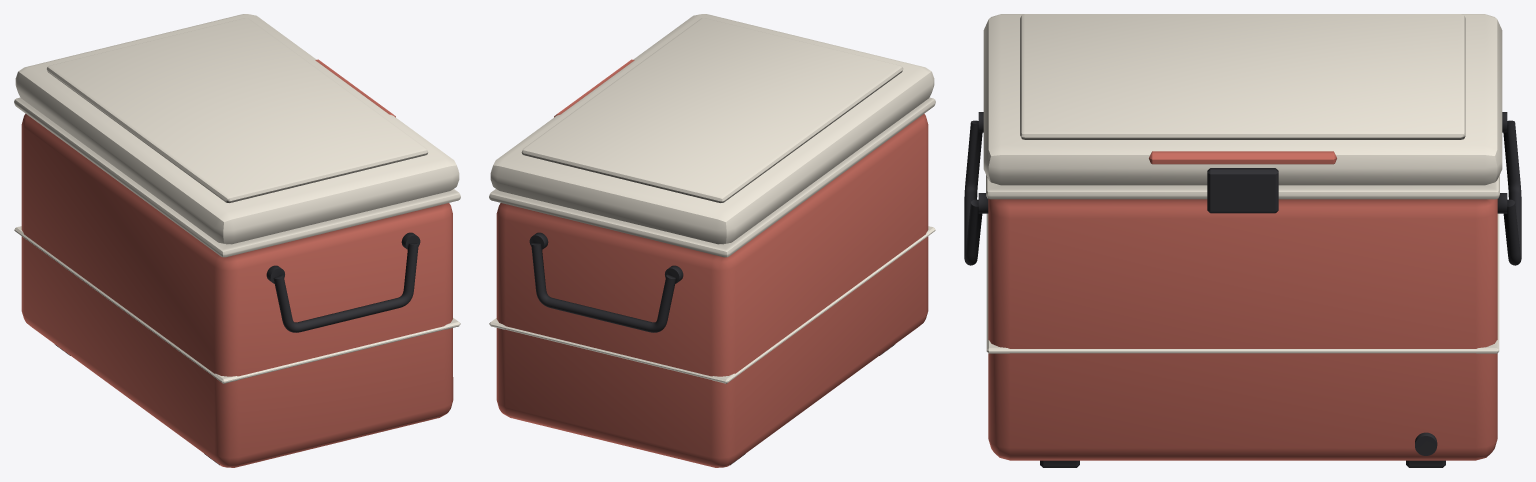
Rendered from kit_cooler.glb.
The picture shows the model from 3 angles, left to right: view 1: azimuth 30°, elevation 25°; view 2: azimuth 150°, elevation 25°; view 3: azimuth 270°, elevation 25°; orthographic projection. The views are drawn at different scales.
Visible parts, largest first — view 1: PART, LID; view 2: PART, LID; view 3: PART, LID.
Boxes of the visible parts, x1,y1,x2,y2 form: PART: (14, 97, 460, 467); LID: (15, 14, 459, 244); PART: (489, 97, 935, 467); LID: (490, 14, 934, 244); PART: (964, 112, 1521, 467); LID: (983, 14, 1502, 213).
Bounding box in the file's own units: 0.443 × 0.466 × 0.6999.
